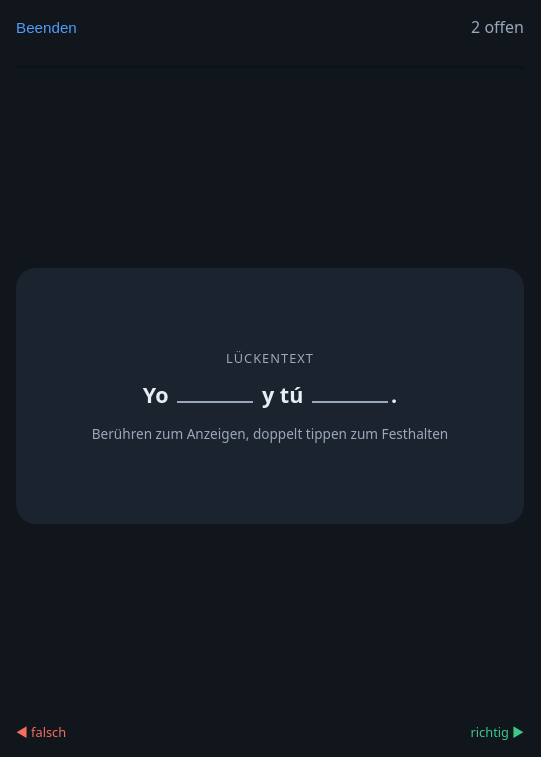
Test: ExerciseSessionView › nimmt gelöste Übungen sofort heraus und endet nach der letzten
The width and height of the screenshot is (541, 757).
Later steps or results of the test are not shown.
Expected: the text "2 offen" is shown, [471,16,524,38]
Press the mouse on the element that starts with "Lückentext" at (270, 396), box [16,268,524,524]
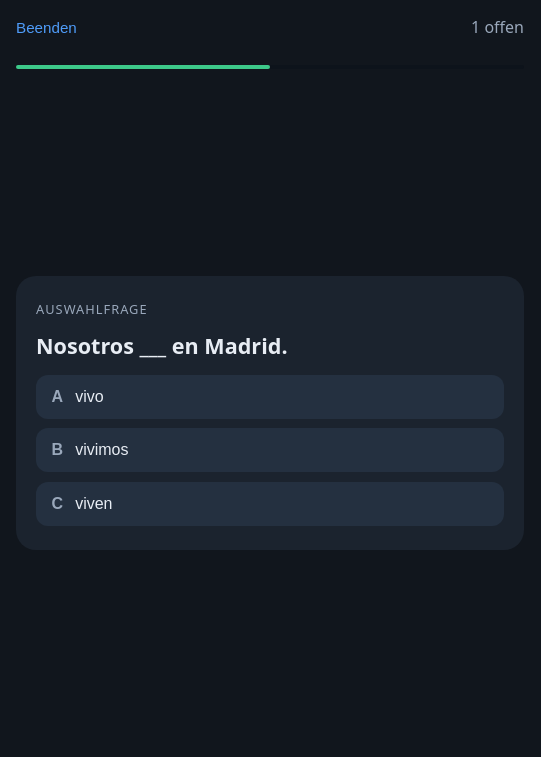
Now the text "1 offen" is shown, box [471,16,524,38]
